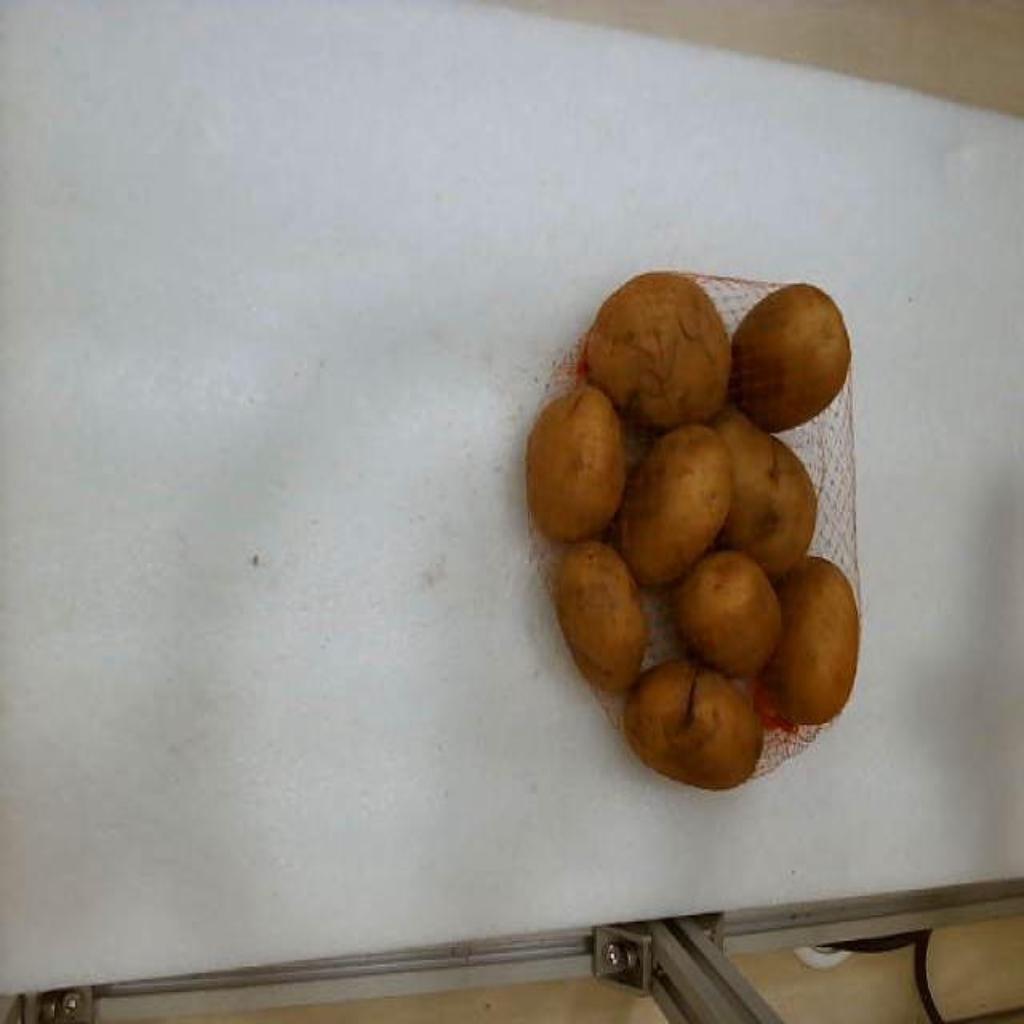potato: (586, 272, 732, 428), (618, 424, 730, 583), (624, 661, 762, 788), (730, 285, 850, 431), (714, 408, 816, 579), (764, 557, 860, 724), (526, 387, 626, 540), (556, 541, 648, 691), (674, 552, 782, 677)
